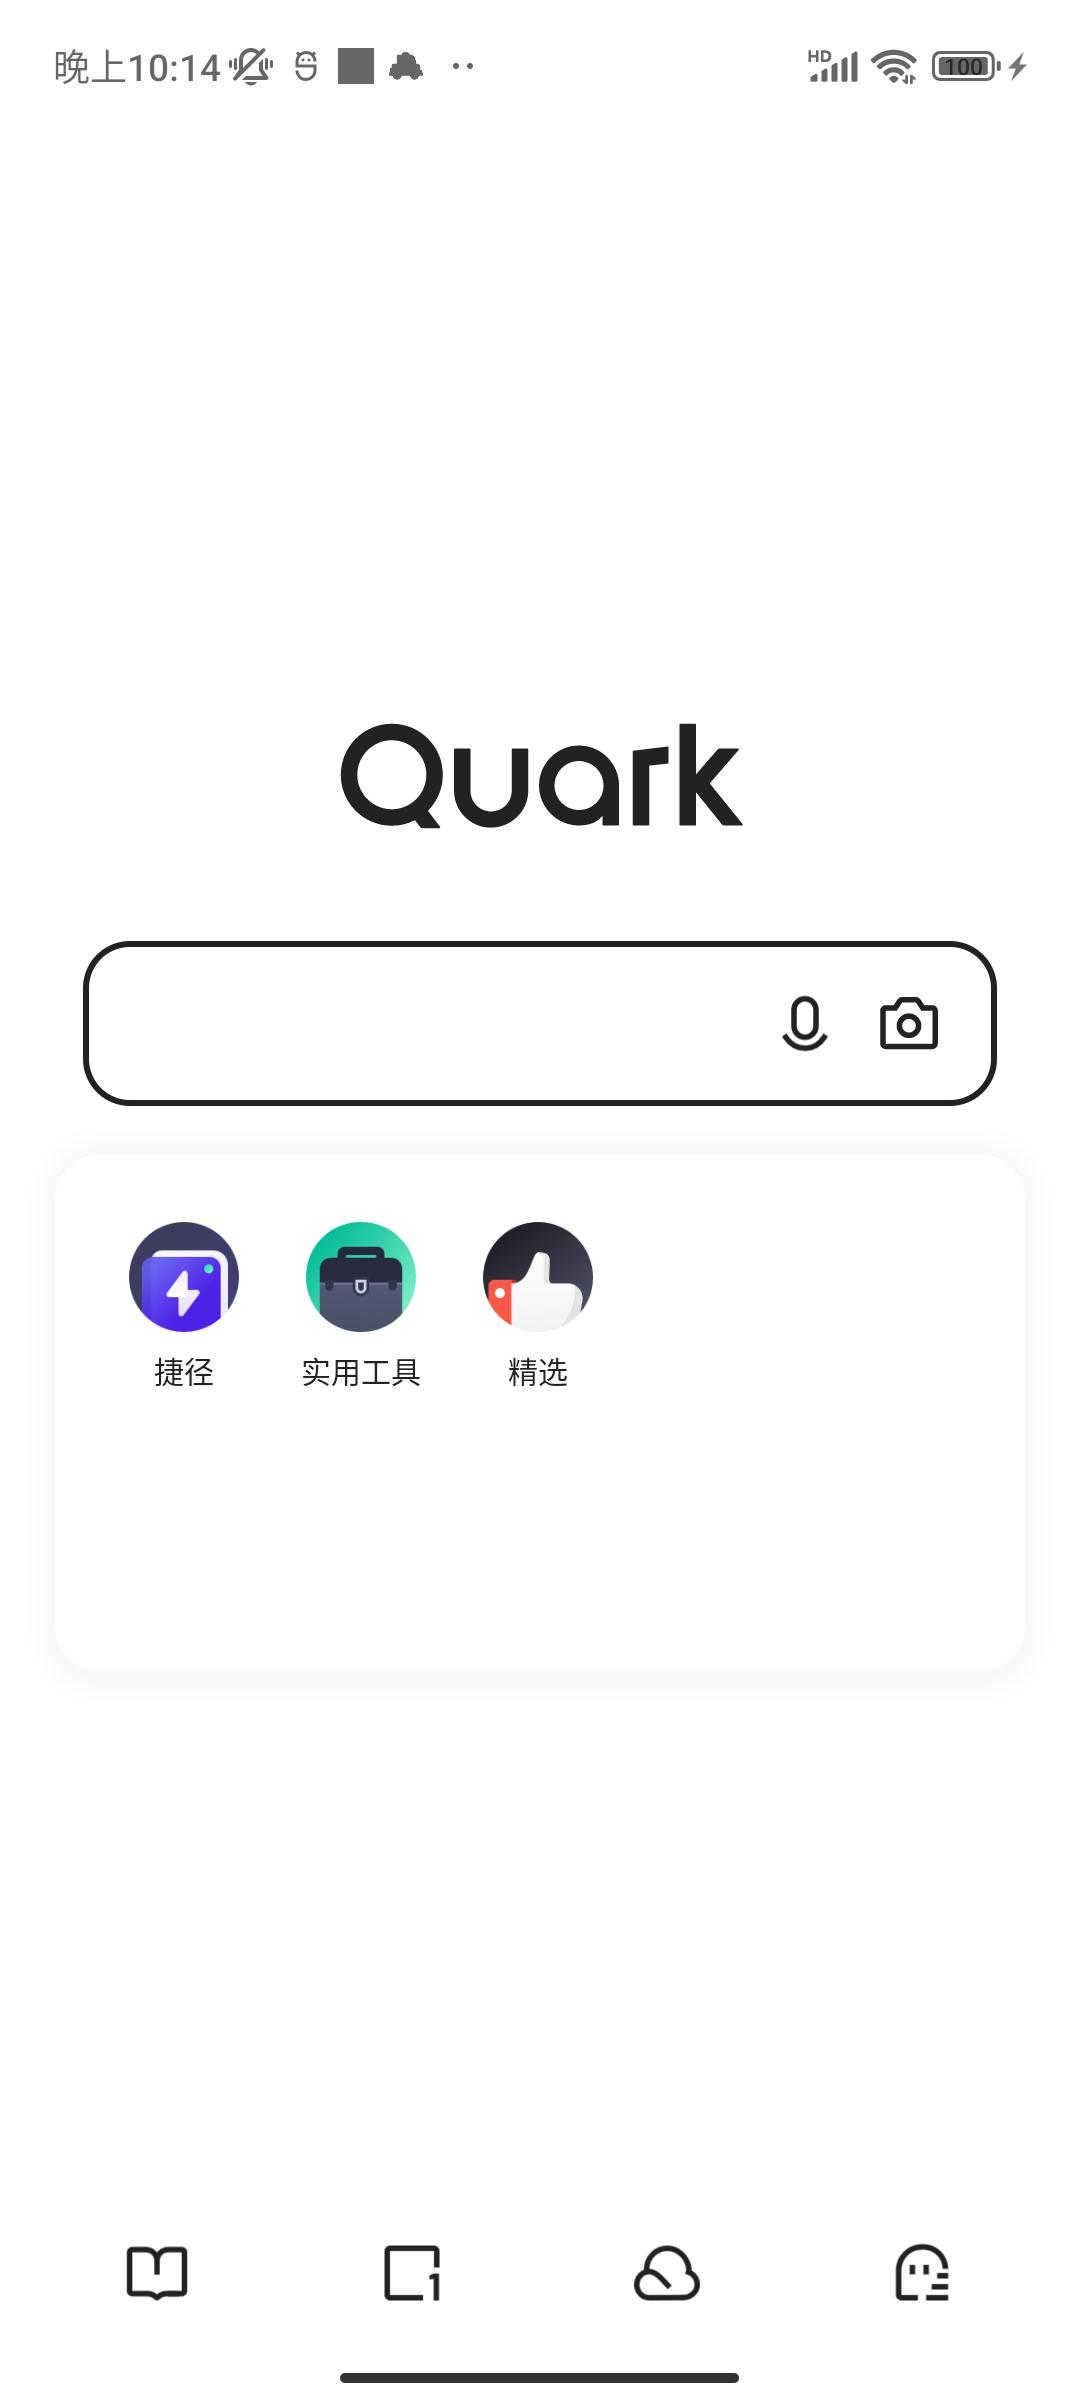ui_group: (89, 1169, 265, 1431), (470, 1191, 627, 1417), (298, 1179, 445, 1419)
